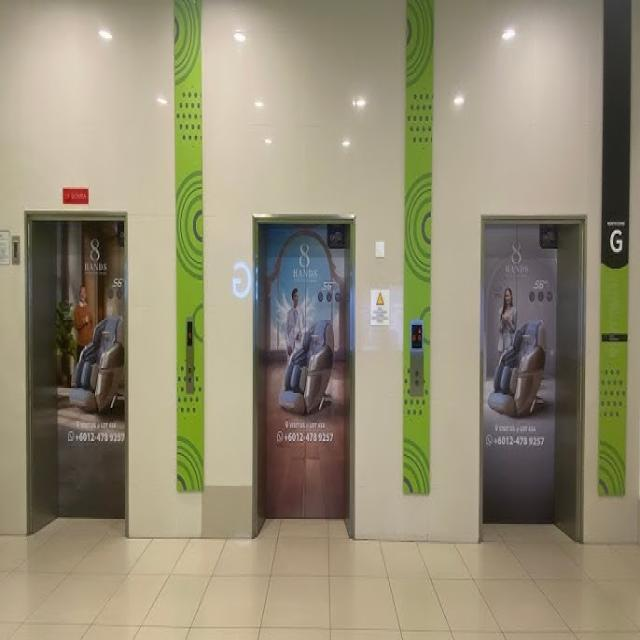elevator: (404, 210, 589, 553), (181, 208, 363, 546), (21, 174, 132, 544)
